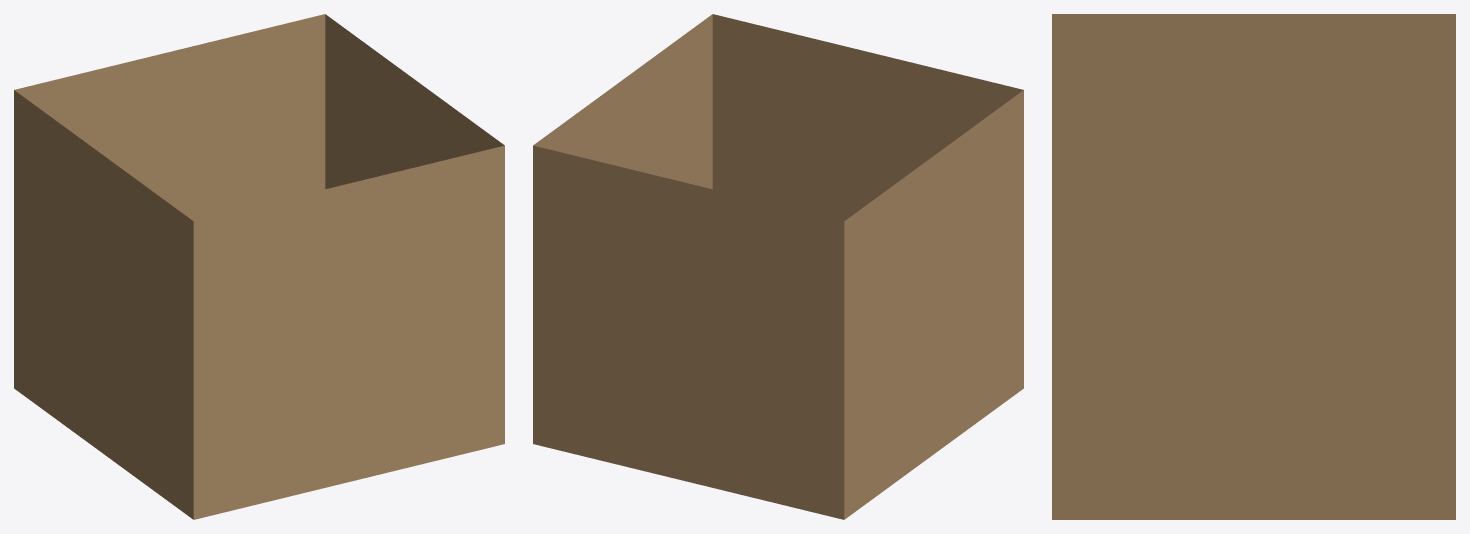
Rendered from DungeonGenericPillar3.fbx.
3 views of the same model, side by side, from view 1: azimuth 30°, elevation 25°; view 2: azimuth 150°, elevation 25°; view 3: azimuth 270°, elevation 25° (orthographic). The views are drawn at different scales.
Visible parts, largest first — view 1: Pillar4; view 2: Pillar4; view 3: Pillar4.
Boxes of the visible parts, bbox=[...] form: Pillar4: bbox=[14, 14, 504, 519]; Pillar4: bbox=[533, 14, 1023, 519]; Pillar4: bbox=[1052, 14, 1455, 519].
Bounding box in the file's own units: 3 × 2.75 × 3.
